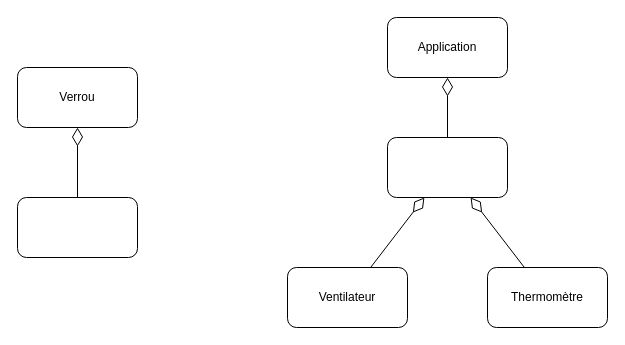
Some shapes in this 625 by 345 pixel diagram are drawn without their labels. The shapes that lost their labels are listed below. From the top down, each one's centre as x and y in pixels, then its label:
point 447,167: Climatiseur
point 77,227: Servo
